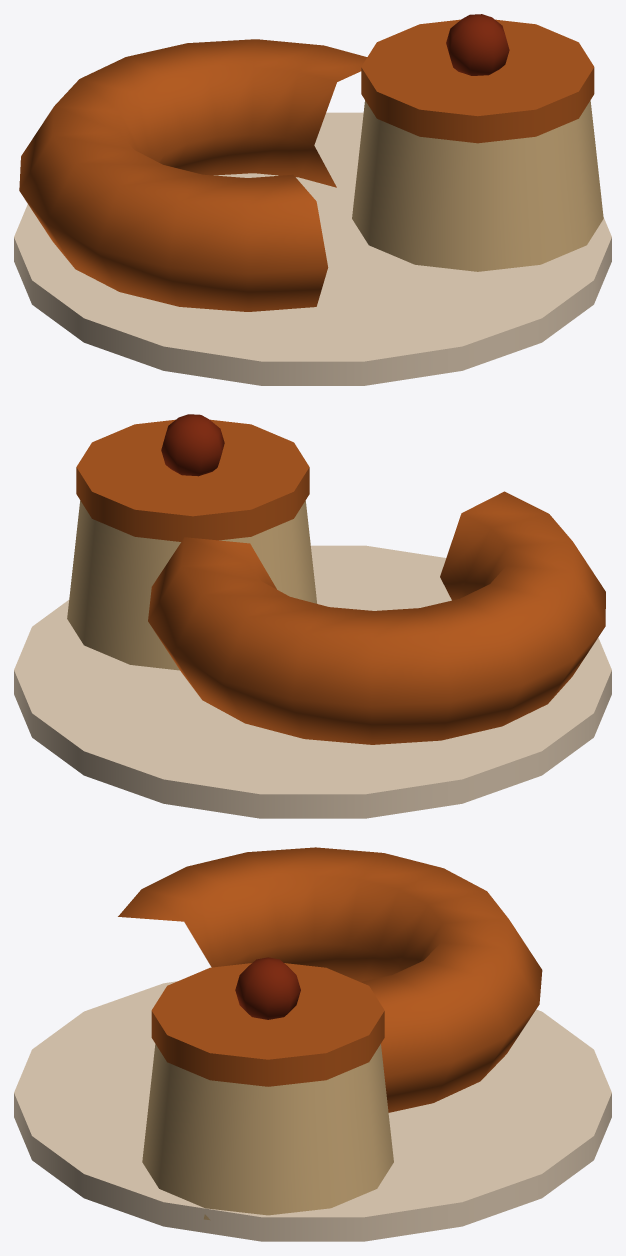
Rendered from pastry.glb.
The picture shows the model from 3 angles, top to bottom: view 1: azimuth 30°, elevation 25°; view 2: azimuth 150°, elevation 25°; view 3: azimuth 270°, elevation 25°; orthographic projection.
Visible parts, largest first — view 1: pastry; view 2: pastry; view 3: pastry.
Part boxes in pixels (<box>): pastry: <box>14,14,611,385</box>; pastry: <box>14,414,611,818</box>; pastry: <box>14,847,611,1241</box>.
Size of the model in its own units: 0.4019 by 0.167 by 0.4.
